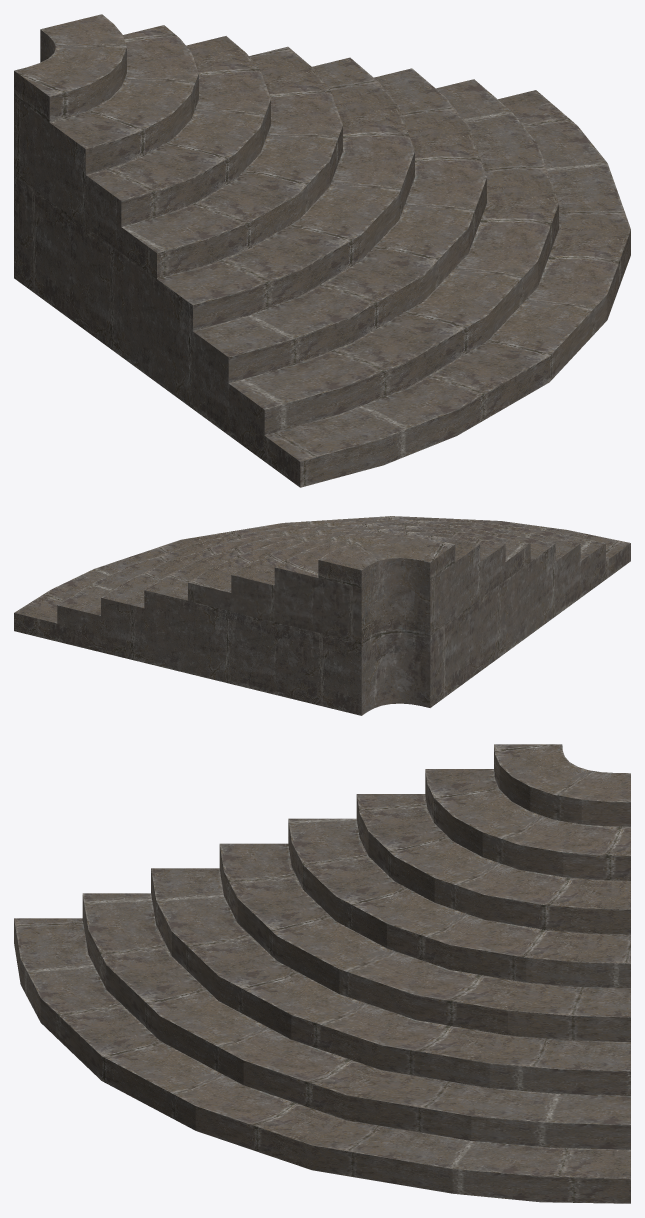
File: stairs3.fbx
3 renders of one model, top to bottom at view 1: azimuth 30°, elevation 25°; view 2: azimuth 150°, elevation 25°; view 3: azimuth 270°, elevation 25°, orthographic. The views are drawn at different scales.
Parts seen in each view (by area): view 1: Trim_Stair_CornerRound; view 2: Trim_Stair_CornerRound; view 3: Trim_Stair_CornerRound.
Boxes of the visible parts, x1,y1,x2,y2 form: Trim_Stair_CornerRound: [14, 14, 630, 487]; Trim_Stair_CornerRound: [14, 516, 630, 715]; Trim_Stair_CornerRound: [14, 744, 630, 1203].
Size of the model in its own units: 450 by 161 by 450.
